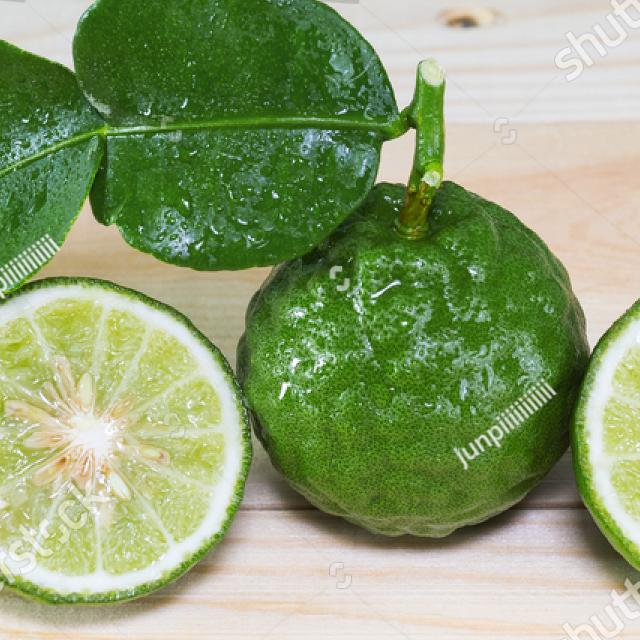lime: (223, 142, 607, 556)
